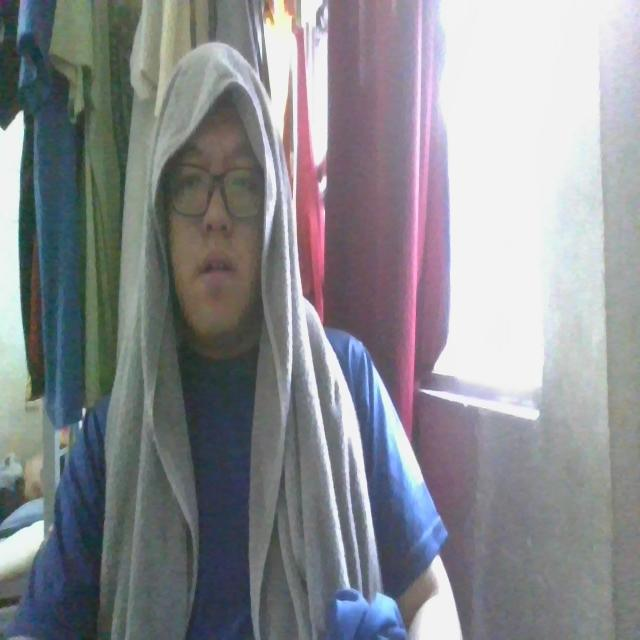person_without_labcoat: (6, 44, 446, 639)
